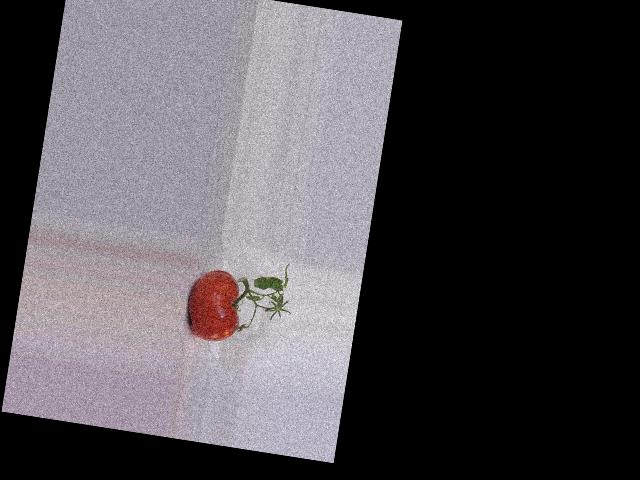tomato: (182, 266, 246, 345)
